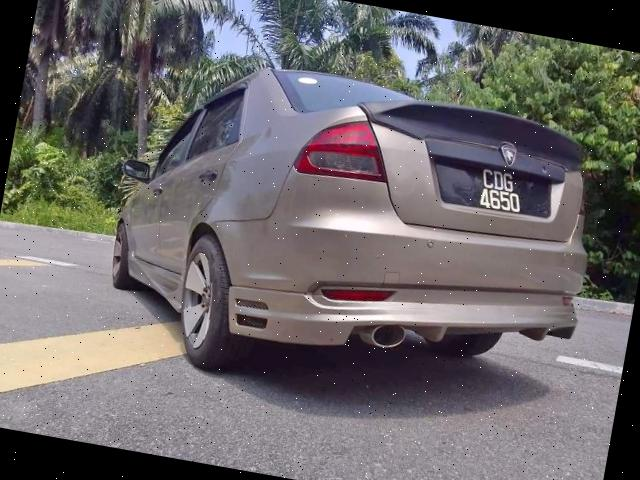License_Plate: (434, 156, 559, 226)
car: (92, 33, 639, 421)
